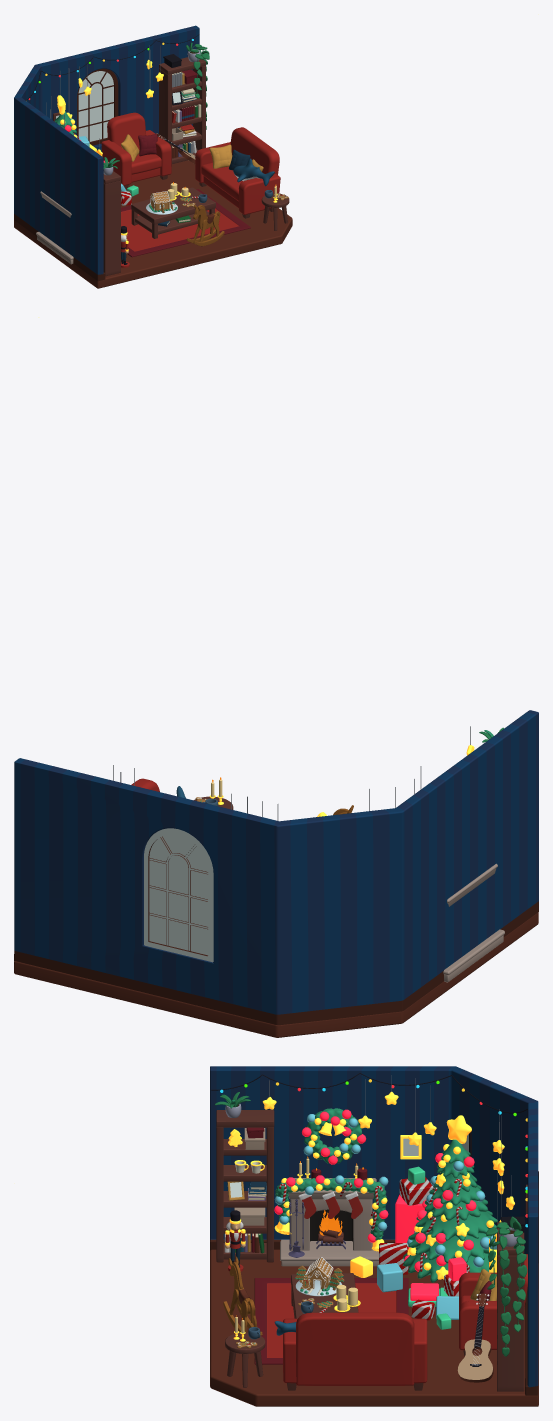
The model's file is christmas.glb.
The picture shows the model from 3 angles, top to bottom: view 1: azimuth 30°, elevation 25°; view 2: azimuth 150°, elevation 25°; view 3: azimuth 270°, elevation 25°; orthographic projection. The views are drawn at different scales.
Visible parts, largest first — view 1: Cube.065_Wall.001_0, Cube_Floor_0, Cube.005_LightRed_0, Cube.142_yellow_0, Cube.006_Furniture_0, Cube.014_DarkRed_0, Plane.030_glass.001_0, Cube.023_Furniture_0, Cube.144_Furniture_0, Cube.013_Material.002_0, Cube.029_Wall_0, Cylinder.018_Dirt_0 (+6 smaller); view 2: Cube.065_Wall.001_0, Cube_Floor_0, Plane.030_glass.001_0, Cube.004_Material.034_0; view 3: Cube.065_Wall.001_0, Cube_Floor_0, Cube.005_LightRed_0, Cube.023_Furniture_0, Cube.004_Material.034_0, Cube.014_DarkRed_0, Cube.006_Furniture_0, Cube.142_yellow_0, Cylinder.018_Dirt_0, 吉他, BezierCurve.003_Tree_0, Cylinder.007_Tree_0 (+29 smaller).
Boxes of the visible parts, left/top/right/bottom form: Cube.065_Wall.001_0: left=14, top=25, right=199, bottom=274; Cube_Floor_0: left=14, top=160, right=292, bottom=288; Cube.005_LightRed_0: left=195, top=127, right=280, bottom=218; Cube.142_yellow_0: left=101, top=112, right=171, bottom=188; Cube.006_Furniture_0: left=159, top=57, right=205, bottom=166; Cube.014_DarkRed_0: left=121, top=189, right=250, bottom=257; Plane.030_glass.001_0: left=78, top=71, right=113, bottom=141; Cube.023_Furniture_0: left=103, top=171, right=120, bottom=276; Cube.144_Furniture_0: left=131, top=187, right=215, bottom=238; Cube.013_Material.002_0: left=186, top=205, right=224, bottom=246; Cube.029_Wall_0: left=209, top=144, right=263, bottom=171; Cylinder.018_Dirt_0: left=186, top=42, right=209, bottom=129; Cube.065_Wall.001_0: left=14, top=710, right=538, bottom=1014; Cube_Floor_0: left=14, top=901, right=538, bottom=1037; Plane.030_glass.001_0: left=144, top=828, right=213, bottom=962; Cube.004_Material.034_0: left=443, top=863, right=504, bottom=982; Cube.065_Wall.001_0: left=210, top=1066, right=538, bottom=1387; Cube_Floor_0: left=210, top=1239, right=538, bottom=1406; Cube.005_LightRed_0: left=283, top=1312, right=427, bottom=1390; Cube.023_Furniture_0: left=216, top=1110, right=274, bottom=1262; Cube.004_Material.034_0: left=280, top=1178, right=378, bottom=1266; Cube.014_DarkRed_0: left=254, top=1278, right=408, bottom=1364; Cube.006_Furniture_0: left=497, top=1222, right=524, bottom=1391; Cube.142_yellow_0: left=459, top=1254, right=527, bottom=1355; Cylinder.018_Dirt_0: left=486, top=1216, right=527, bottom=1356; 吉他: left=457, top=1293, right=493, bottom=1382; BezierCurve.003_Tree_0: left=275, top=1178, right=386, bottom=1240; Cylinder.007_Tree_0: left=415, top=1210, right=498, bottom=1240.
Size of the model in its own units: 690 by 406 by 567.
Materials: 49 (3 with a texture image).
